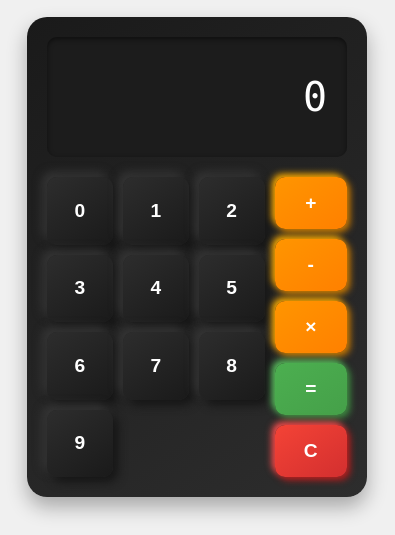
Test: App › performs multiplication correctly
Click the button "4".
click(156, 288)  # box [123,254,189,322]
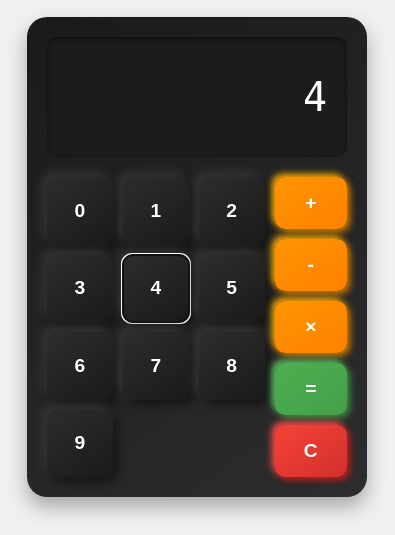
Click the button "×".
click(311, 327)  # box [274,301,347,353]
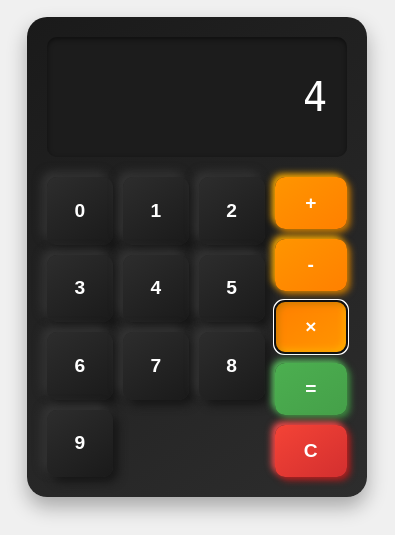
Click the button "3".
click(80, 288)  # box [47,254,113,322]
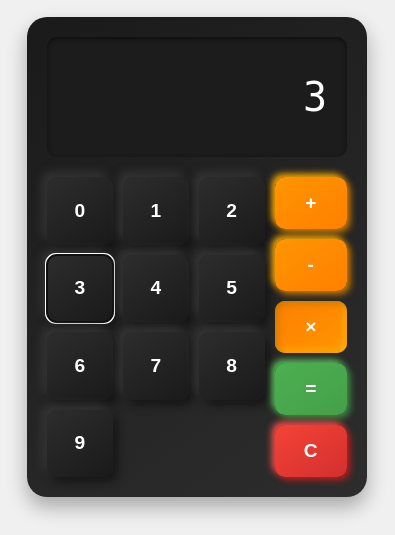
Click the button "=".
click(311, 389)  # box [274,363,347,415]
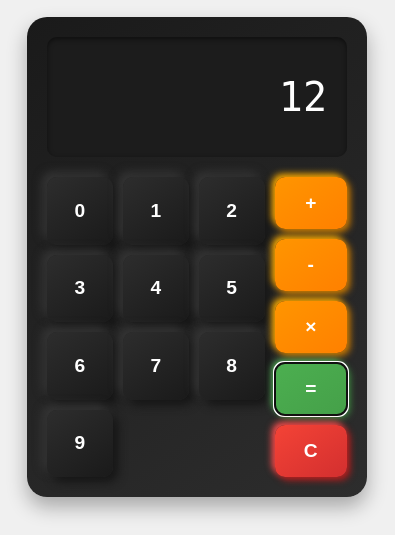
Result: the text with test id "display" reads "12" at [279,74,327,120]
